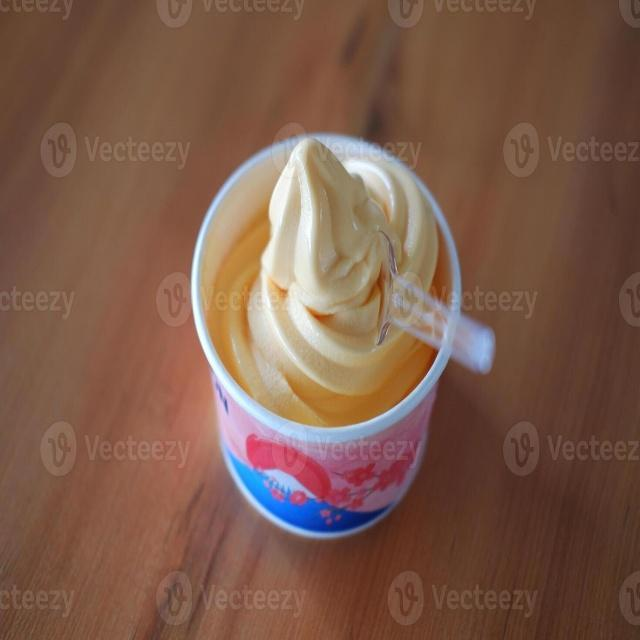paper_cup: (160, 89, 514, 578)
